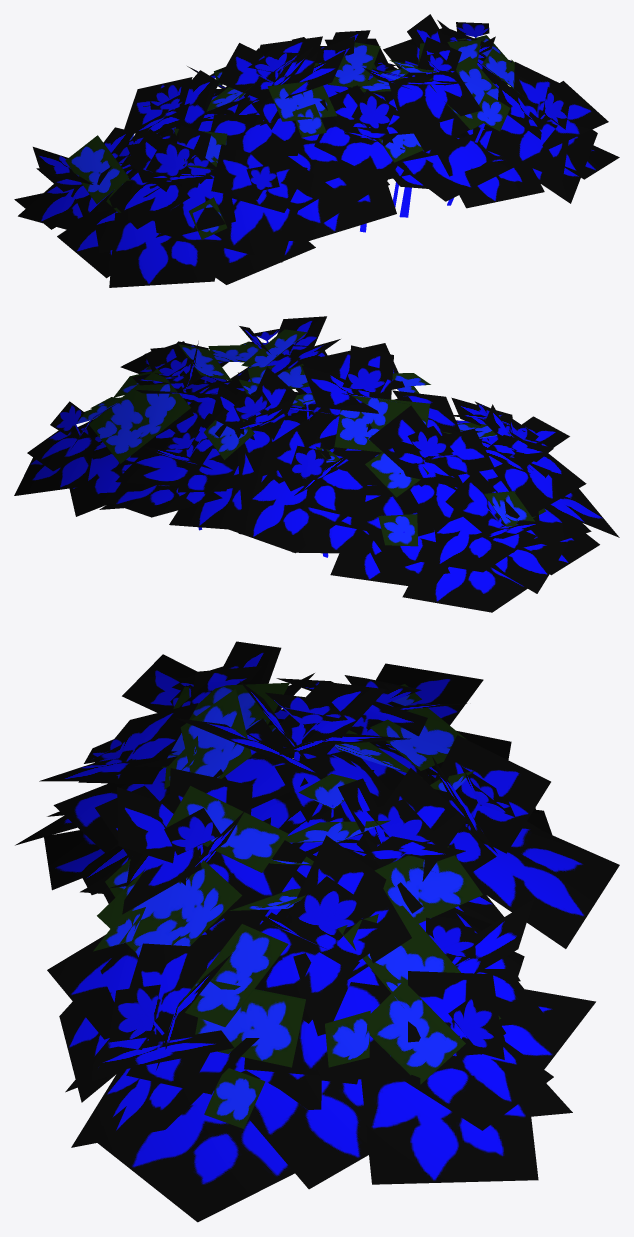
File: Homeworld_Exterior_Fd_Plant_Grass_Guangchang_02_Lod0.fbx
The picture shows the model from 3 angles, top to bottom: view 1: azimuth 30°, elevation 25°; view 2: azimuth 150°, elevation 25°; view 3: azimuth 270°, elevation 25°; orthographic projection. The views are drawn at different scales.
Visible parts, largest first — view 1: Area_Fd_Grass_Common_MGrass08_Lod0; view 2: Area_Fd_Grass_Common_MGrass08_Lod0; view 3: Area_Fd_Grass_Common_MGrass08_Lod0.
Boxes of the visible parts, x1,y1,x2,y2 form: Area_Fd_Grass_Common_MGrass08_Lod0: (14,14,619,287); Area_Fd_Grass_Common_MGrass08_Lod0: (14,316,619,612); Area_Fd_Grass_Common_MGrass08_Lod0: (15,641,619,1222).
Bounding box in the file's own units: 3.71 × 1.18 × 2.16.
1 material, 1 textured.
